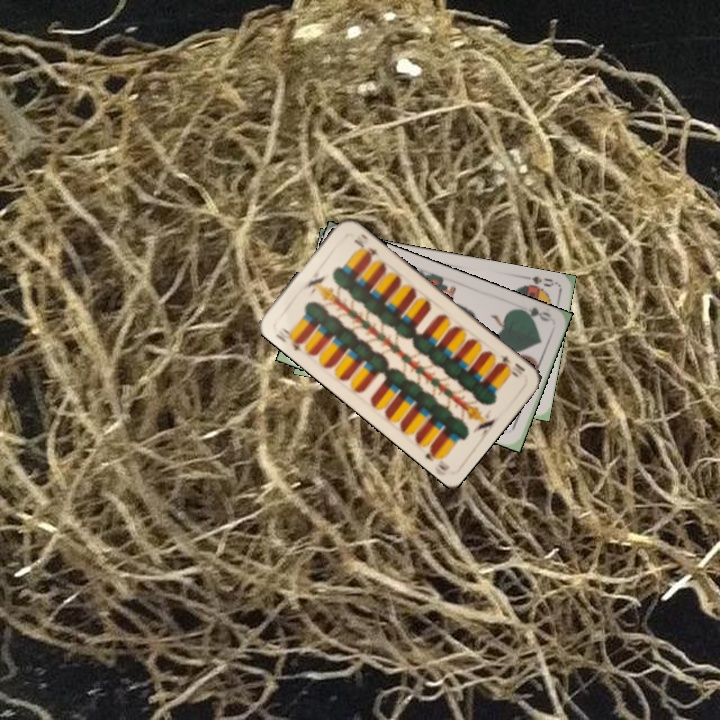E10: (271, 324, 307, 354), (494, 350, 528, 380)
GO: (513, 303, 554, 324)
SO: (517, 271, 558, 293)
